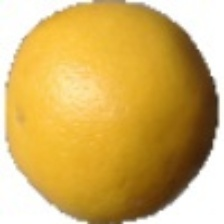grapes: (7, 25, 198, 170)
